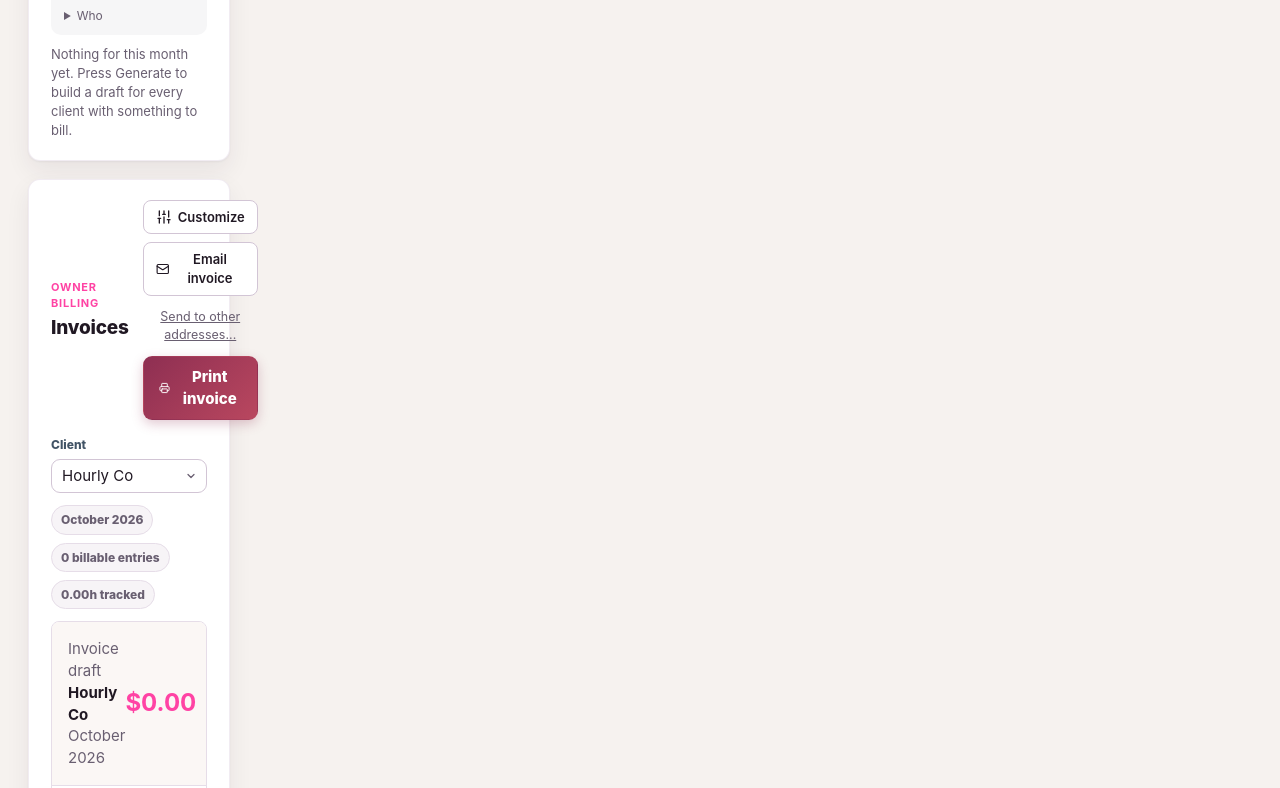
Test case: Print invoice asks which month › opens a dialog on click and prints nothing yet
The image size is (1280, 788).
(page scrolled)
Click the button "Print invoice" at (200, 388), box [143,356,258,420]
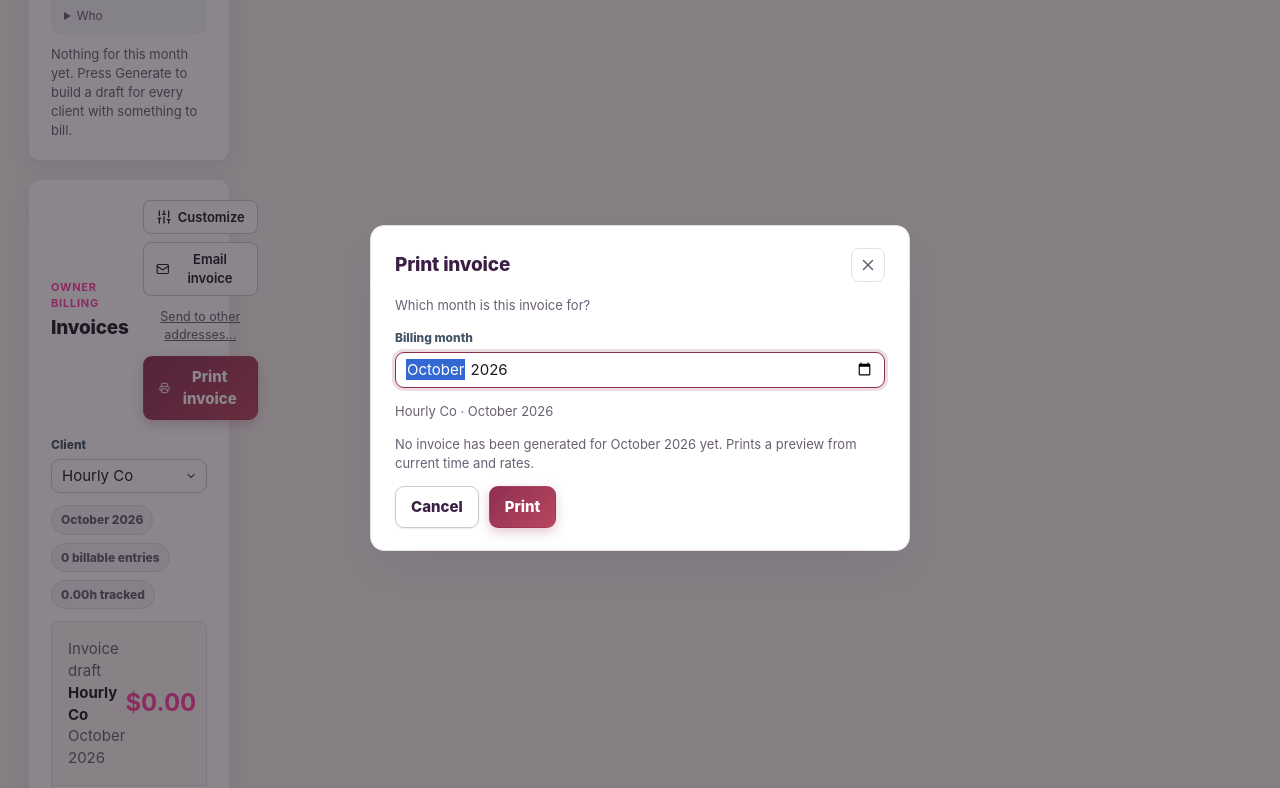
expect the text "Which month is this invoice for?" is shown: met, box [395,297,590,313]
expect the button "Print" is enabled: met, box [489,486,556,528]
